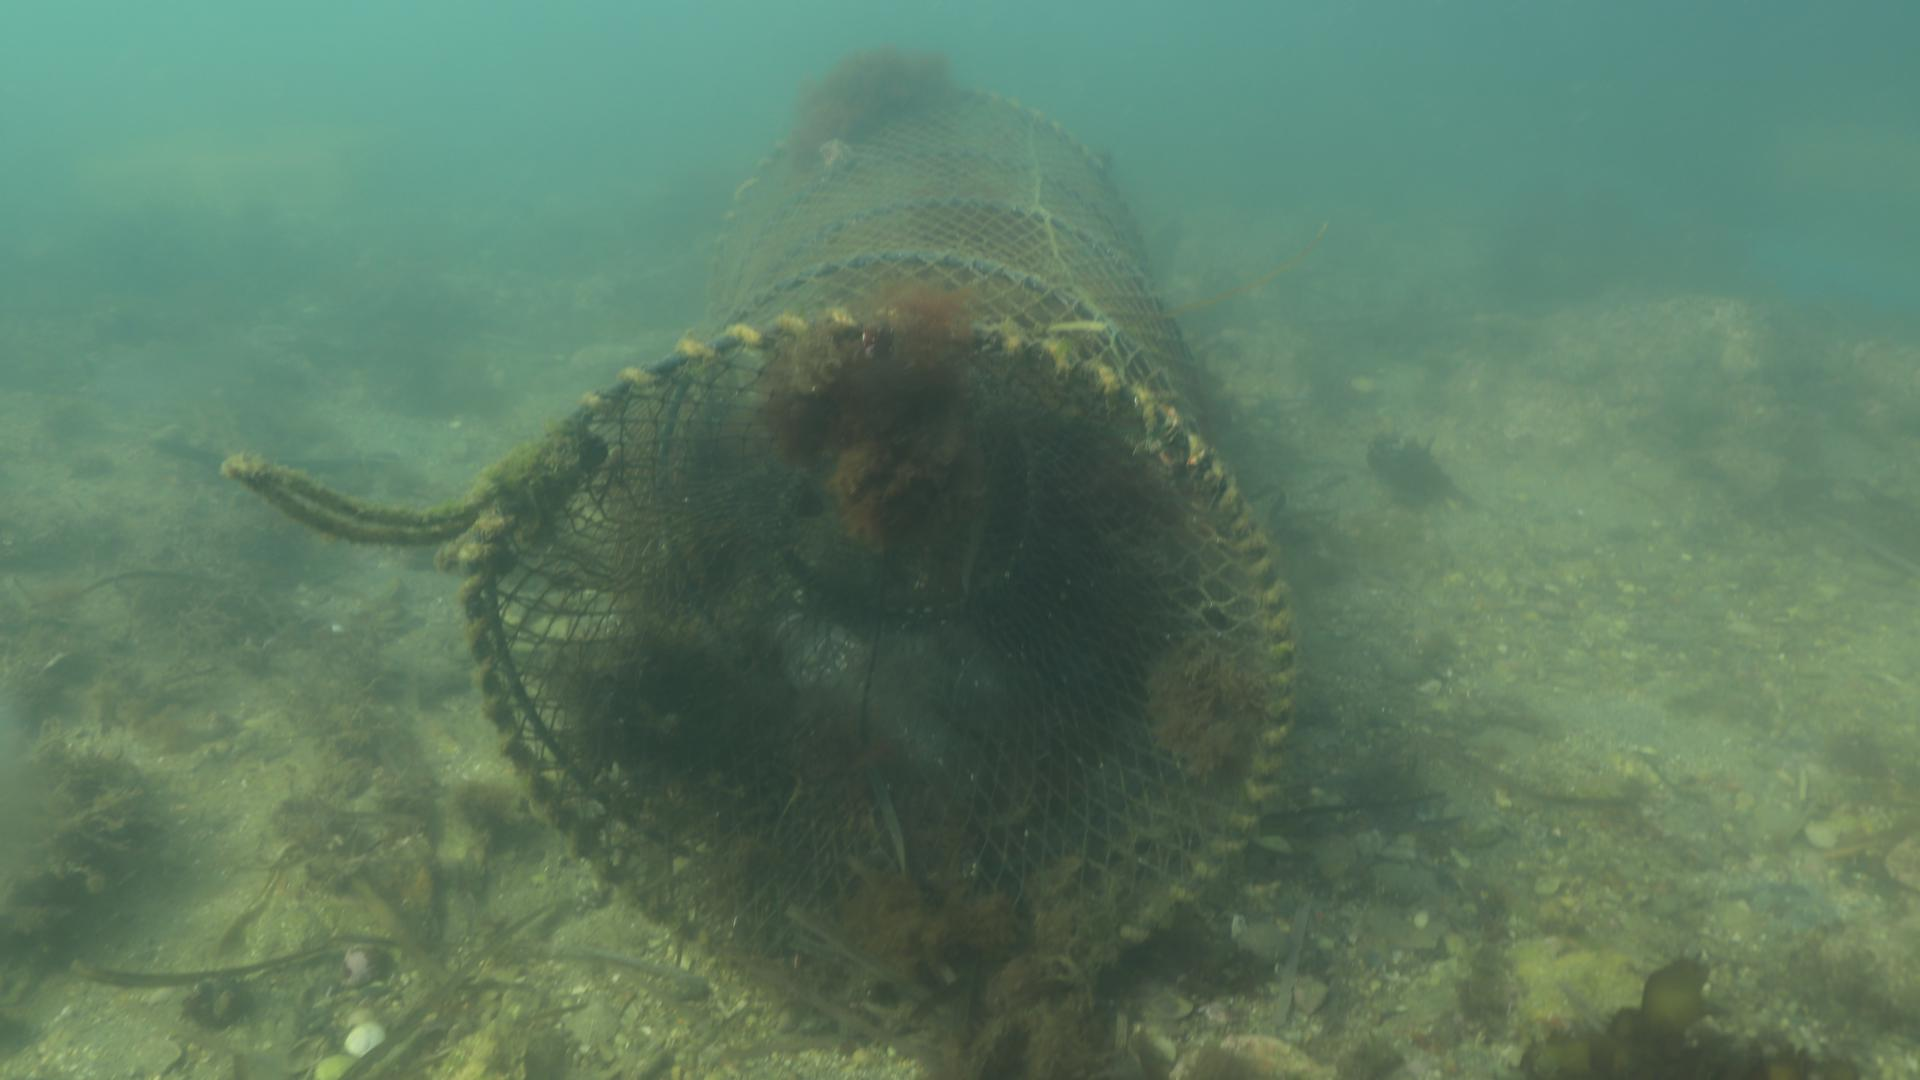bundle of ropes: (216, 455, 527, 545)
spring fish trap: (467, 82, 1298, 1044)
